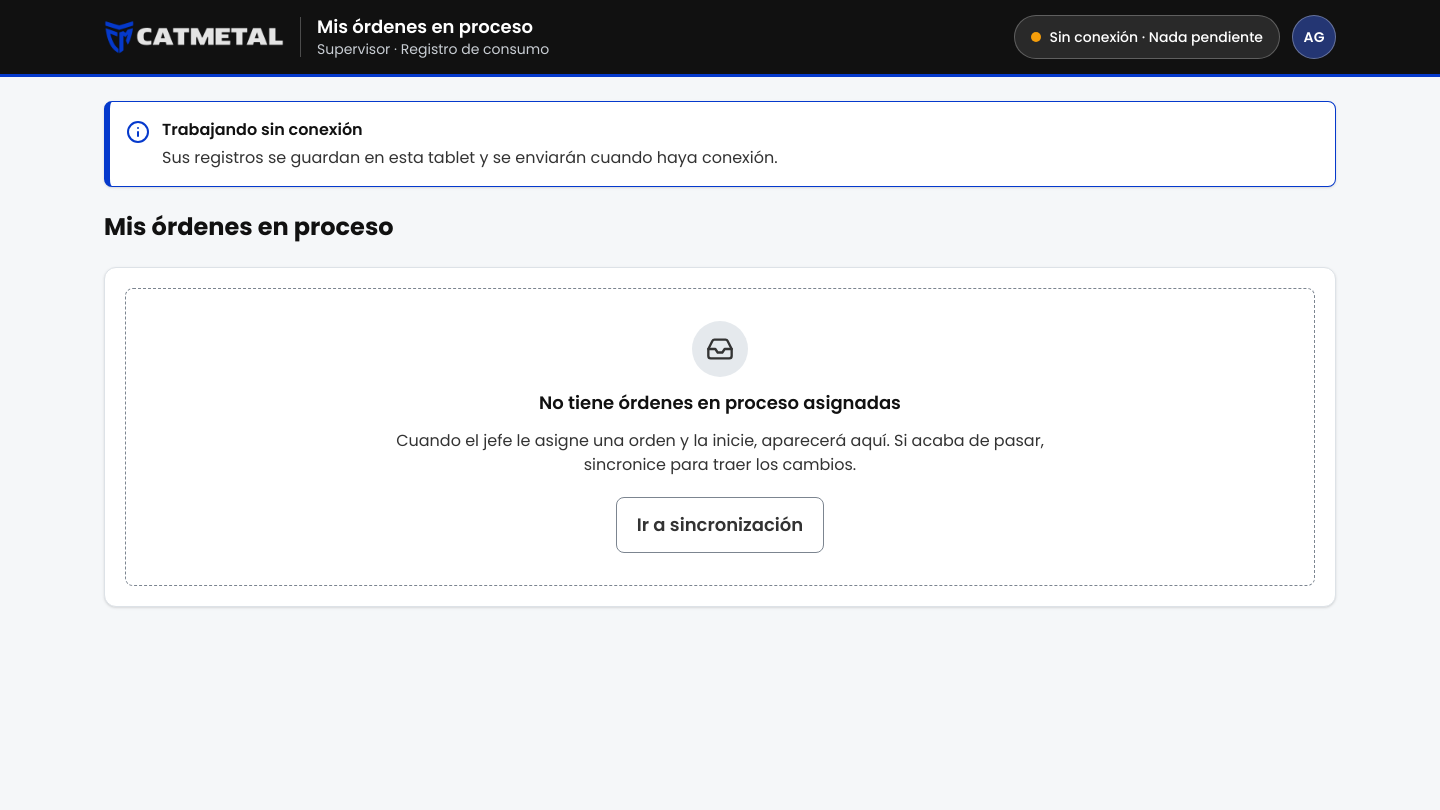
Test: menú de la cuenta › cerrar sesión con pendientes: advierte que se conservan y no los borra
Expected: the heading "Mis órdenes en proceso" is shown, [104,210,394,243]
Click the button with aria-label "Cuenta de Ana Gómez" at (1314,37), box [1292,15,1336,59]
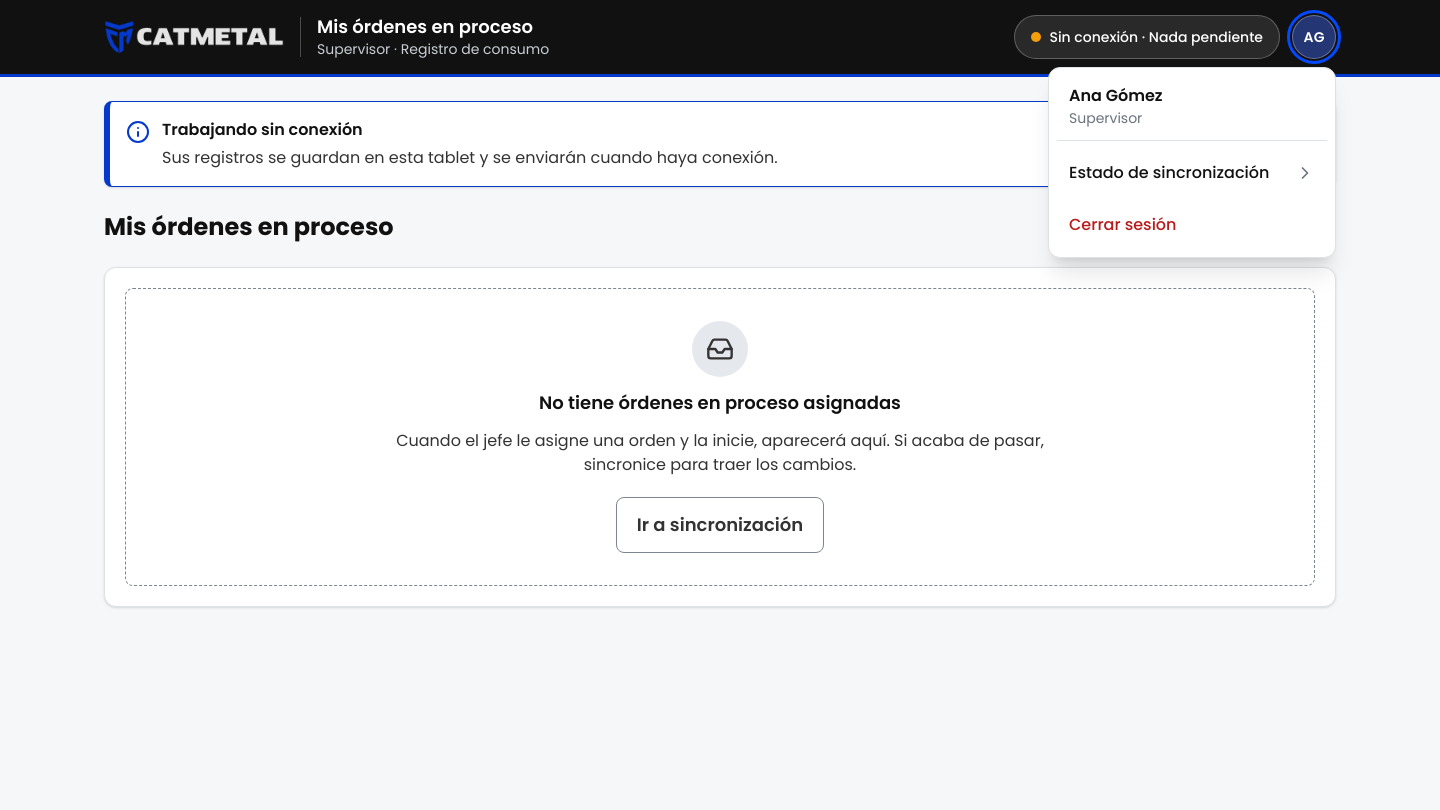
Click the button "Cerrar sesión" at (1123,224), box [1057,201,1327,249]
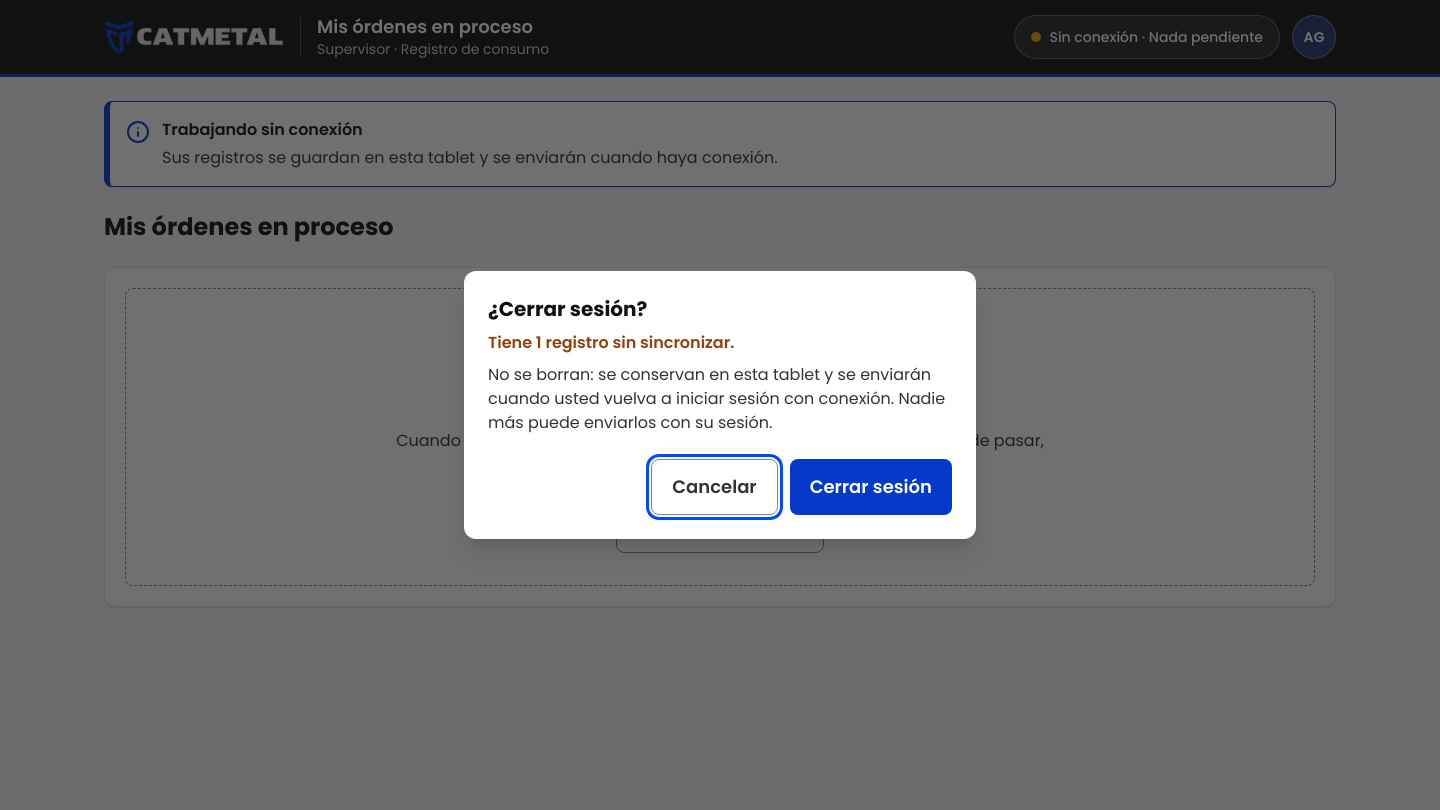
Expected: the dialog "¿Cerrar sesión?" shows "Tiene 1 registro sin sincronizar.", [464,271,976,539]
Expected: the dialog "¿Cerrar sesión?" shows "No se borran: se conservan en esta tablet", [488,363,945,434]
Click the button "Cerrar sesión" at (871,487), box [790,459,952,515]
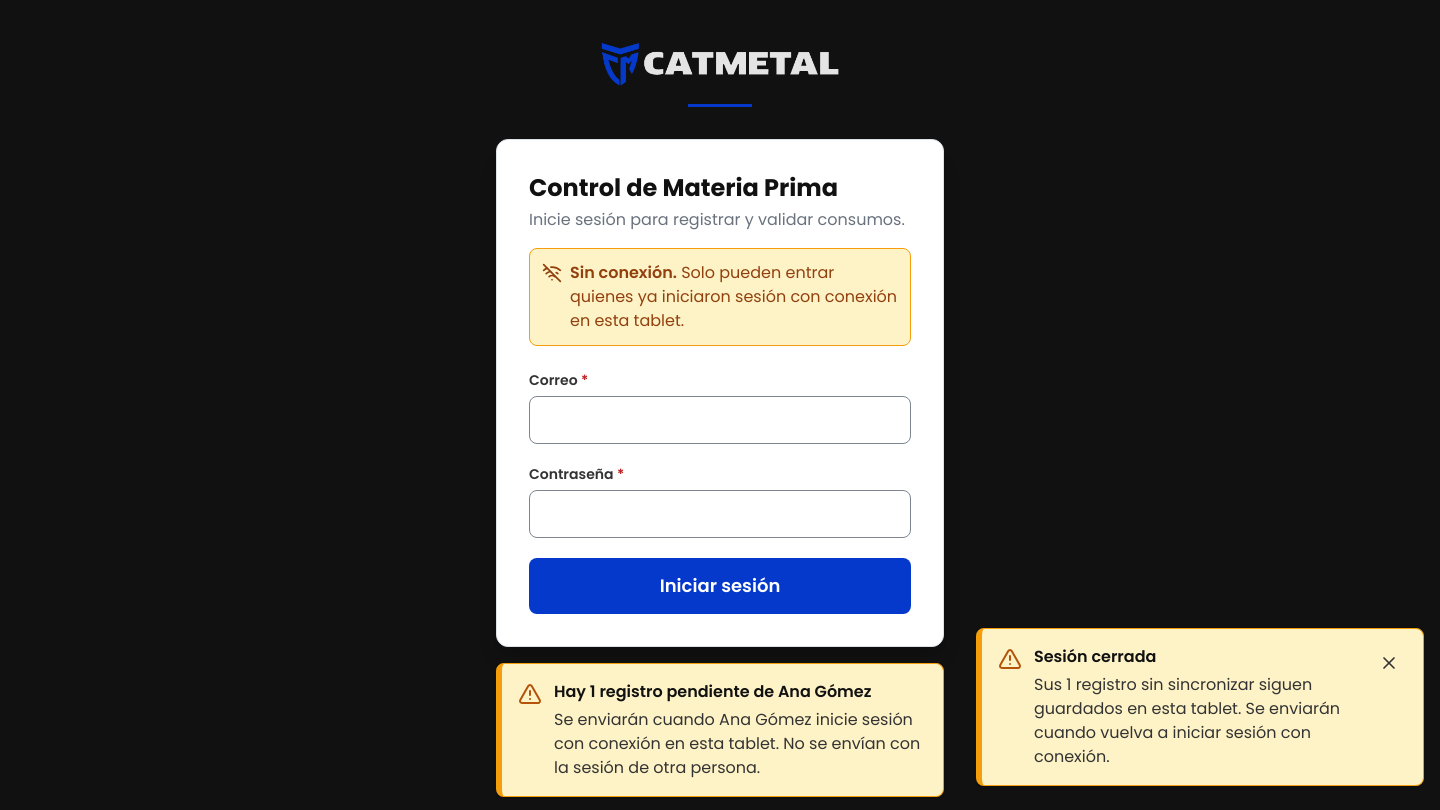
Expected: the text "Hay 1 registro pendiente de Ana Gómez" is shown, [554,680,927,704]
Expected: the text "siguen guardados en esta tablet" is shown, [1034,673,1340,768]
